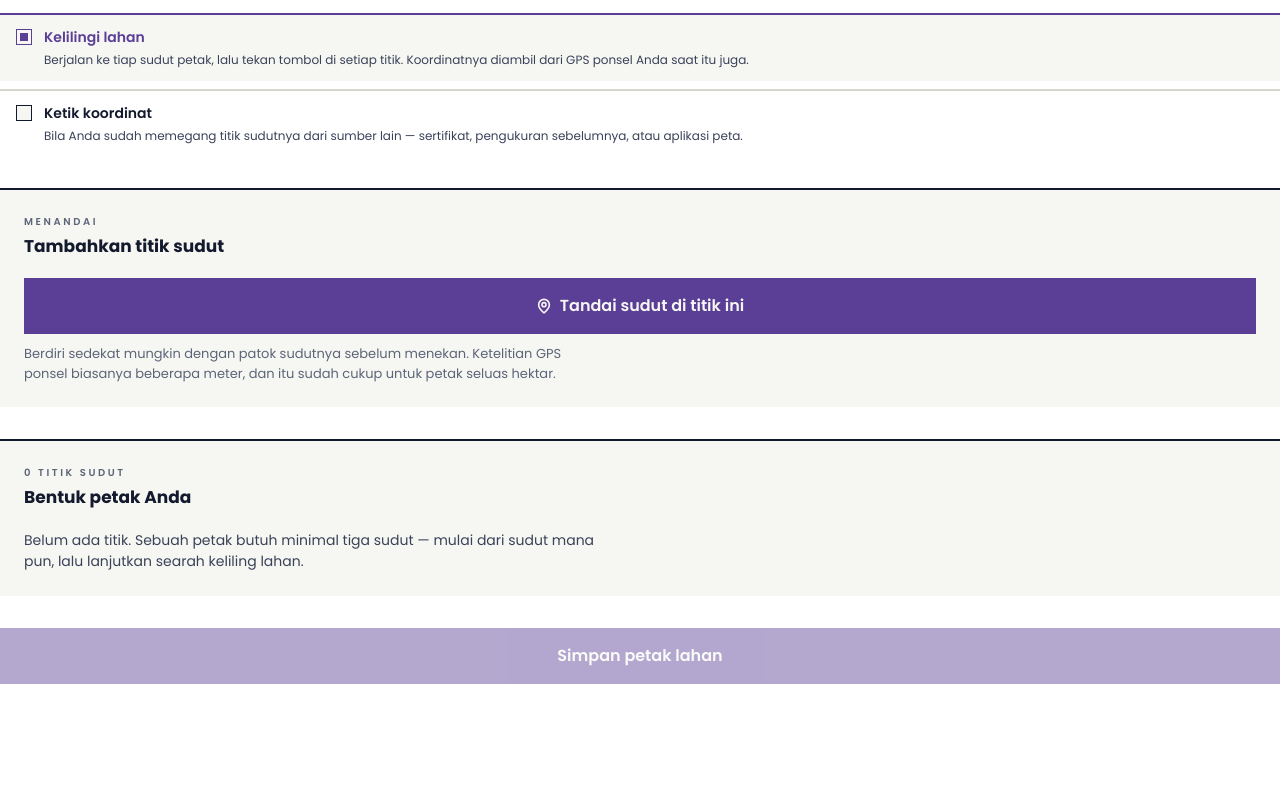
Test case: tenant land polygon capture › explains the geolocation failure without adding a made-up point (code 1)
The image size is (1280, 786).
Click the button "Tandai sudut di titik ini". click: (640, 306)
box: [24,278,1256,334]
(page scrolled)
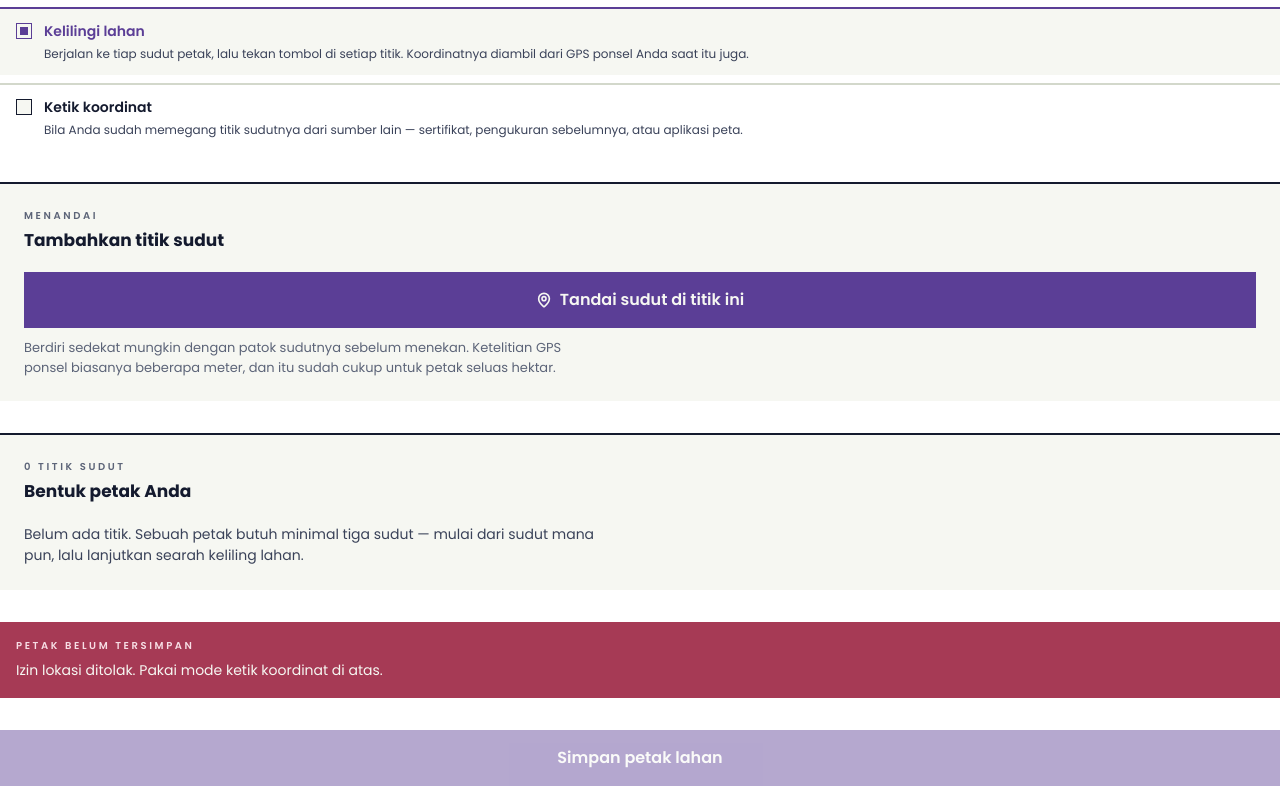
expect the text "Belum ada titik" is shown: met, box [24,524,594,565]
expect the message "Petak belum tersimpan Izin lokasi ditolak. Pakai mode ketik koordinat di atas." is shown: met, box [0,622,1279,698]
